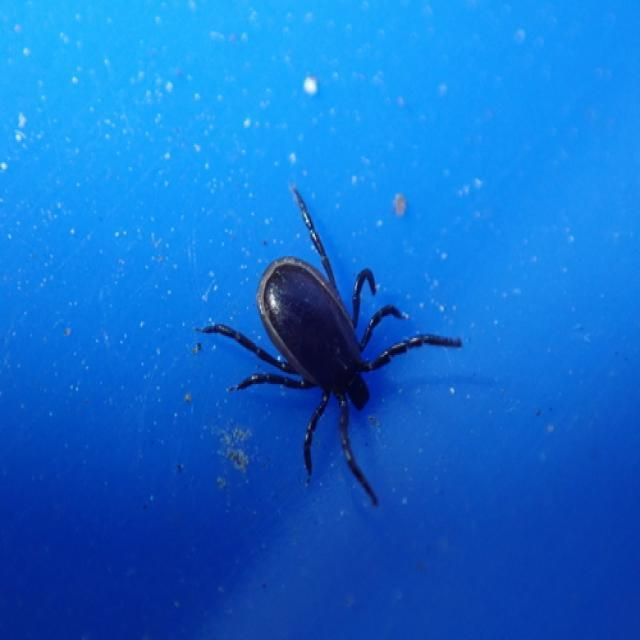Ixodes Ricinus-M: (197, 186, 463, 507)
